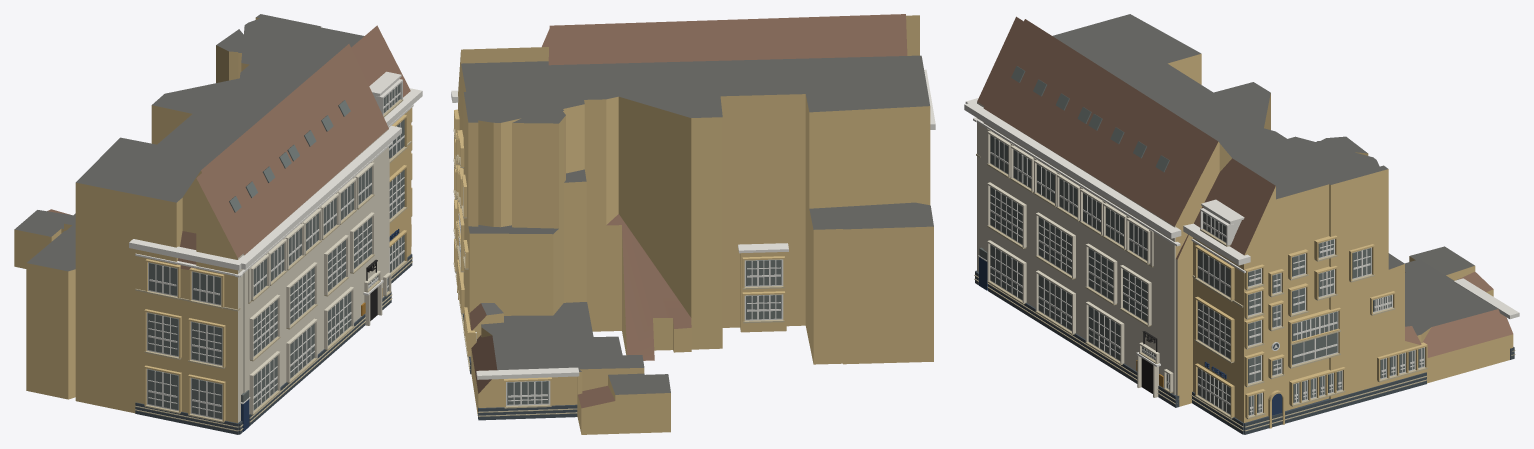
File: de-coenen-coenenstraat.glb
3 views of the same model, side by side, from view 1: azimuth 30°, elevation 25°; view 2: azimuth 150°, elevation 25°; view 3: azimuth 270°, elevation 25° (orthographic). The views are drawn at different scales.
Parts seen in each view (by area): view 1: de-coenen-coenenstraat; view 2: de-coenen-coenenstraat; view 3: de-coenen-coenenstraat.
Part boxes in pixels (bbox=[...]): de-coenen-coenenstraat: bbox=[14, 14, 422, 434]; de-coenen-coenenstraat: bbox=[451, 14, 935, 434]; de-coenen-coenenstraat: bbox=[964, 14, 1519, 434].
Size of the model in its own units: 36.36 by 20.39 by 39.93.
